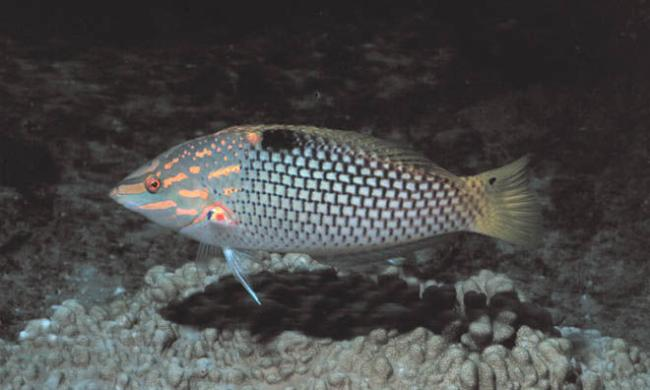fish: (108, 122, 547, 308)
